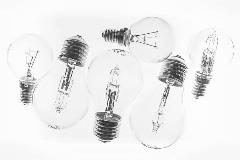lightbulb: (7, 16, 234, 148), (32, 34, 90, 130), (130, 55, 188, 149), (86, 48, 144, 142), (101, 16, 174, 64), (6, 33, 54, 105), (188, 27, 234, 99)
